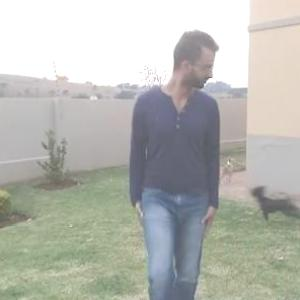follow: (133, 19, 225, 271)
